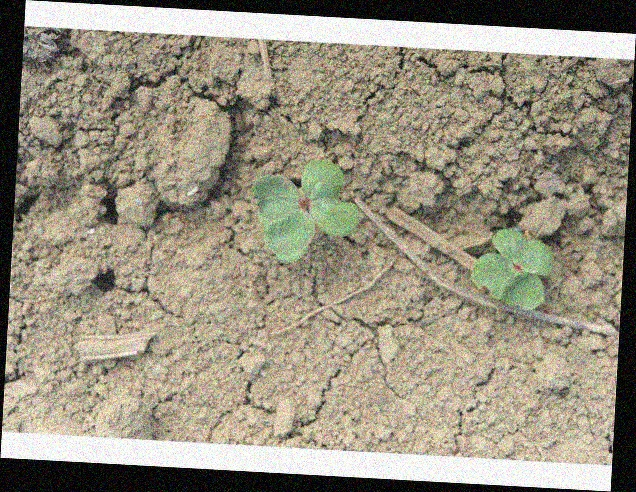cotton: (249, 160, 357, 266), (473, 226, 555, 311)
